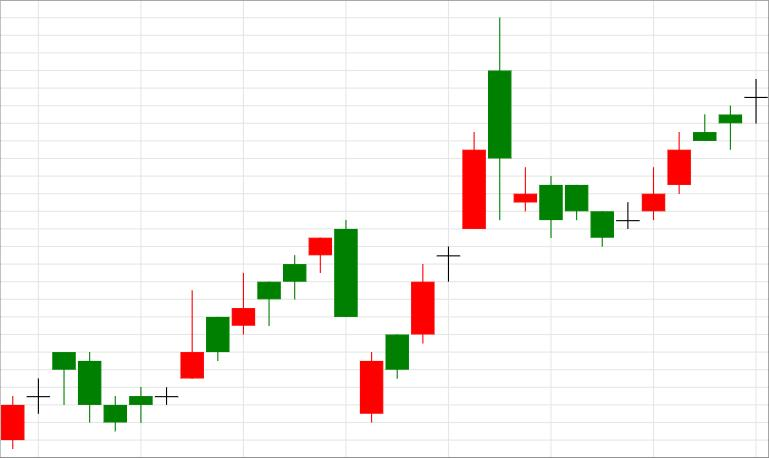bearish_engulfing_fall: (155, 220, 358, 406)
